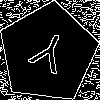Y: (23, 28, 72, 84)
